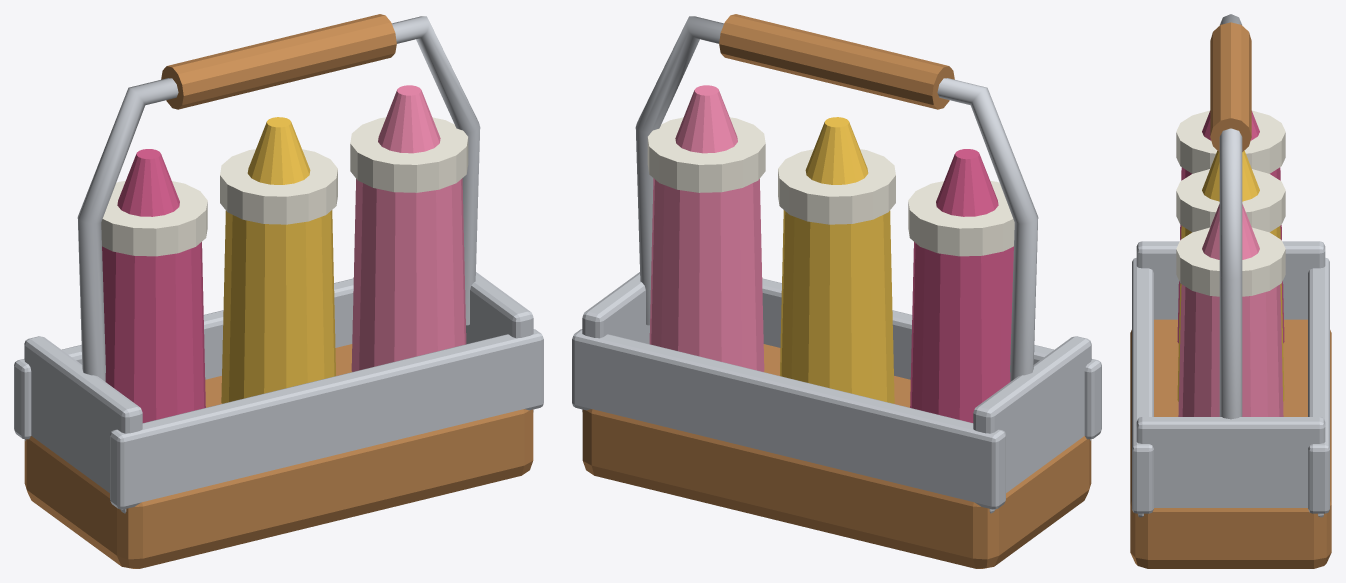
Rendered from SmallSauceCaddy.glb.
3 renders of one model, left to right at view 1: azimuth 30°, elevation 25°; view 2: azimuth 150°, elevation 25°; view 3: azimuth 270°, elevation 25°, orthographic. The views are drawn at different scales.
Visible parts, largest first — view 1: wood carrier base, silver rail, sauce bottle 3, sauce bottle 2, sauce bottle 1, arched carry handle, wood hand grip, carrier end, cream cap 3, cream cap 2, cream cap 1, silver rail.001 (+4 smaller); view 2: wood carrier base, silver rail.001, sauce bottle 3, sauce bottle 2, sauce bottle 1, arched carry handle, wood hand grip, carrier end, cream cap 3, cream cap 2, cream cap 1, silver rail (+4 smaller); view 3: wood carrier base, carrier end.001, sauce bottle 3, arched carry handle, silver rail, silver rail.001, carrier end, wood hand grip, cream cap 3, cream cap 2, cream cap 1, nozzle 3 (+4 smaller).
Boxes of the visible parts, x1,y1,x2,y2 form: wood carrier base: [24, 344, 533, 568]; silver rail: [110, 329, 543, 509]; sauce bottle 3: [351, 178, 466, 371]; sauce bottle 2: [221, 210, 335, 403]; sauce bottle 1: [102, 242, 205, 422]; arched carry handle: [77, 16, 480, 381]; wood hand grip: [161, 14, 396, 109]; carrier end: [24, 336, 142, 513]; cream cap 3: [350, 117, 468, 192]; cream cap 2: [220, 149, 337, 224]; cream cap 1: [101, 181, 207, 256]; silver rail.001: [14, 278, 353, 439]; wood carrier base: [582, 344, 1091, 568]; silver rail.001: [572, 329, 1005, 509]; sauce bottle 3: [649, 178, 764, 371]; sauce bottle 2: [780, 210, 894, 403]; sauce bottle 1: [910, 242, 1013, 422]; arched carry handle: [635, 16, 1038, 381]; wood hand grip: [719, 14, 954, 109]; carrier end: [973, 336, 1091, 513]; cream cap 3: [647, 117, 765, 192]; cream cap 2: [778, 149, 895, 224]; cream cap 1: [908, 181, 1014, 256]; silver rail: [762, 278, 1101, 439]; wood carrier base: [1130, 319, 1331, 568]; carrier end.001: [1136, 417, 1325, 517]; sauce bottle 3: [1178, 284, 1283, 416]; arched carry handle: [1219, 14, 1242, 419]; silver rail: [1132, 258, 1153, 513]; silver rail.001: [1308, 258, 1329, 513]; carrier end: [1136, 241, 1325, 319]; wood hand grip: [1210, 22, 1251, 151]; cream cap 3: [1176, 227, 1285, 296]; cream cap 2: [1176, 169, 1285, 232]; cream cap 1: [1176, 110, 1285, 173]; nozzle 3: [1202, 204, 1259, 259].
Bounding box in the file's own units: 0.72 × 0.723 × 0.32.
